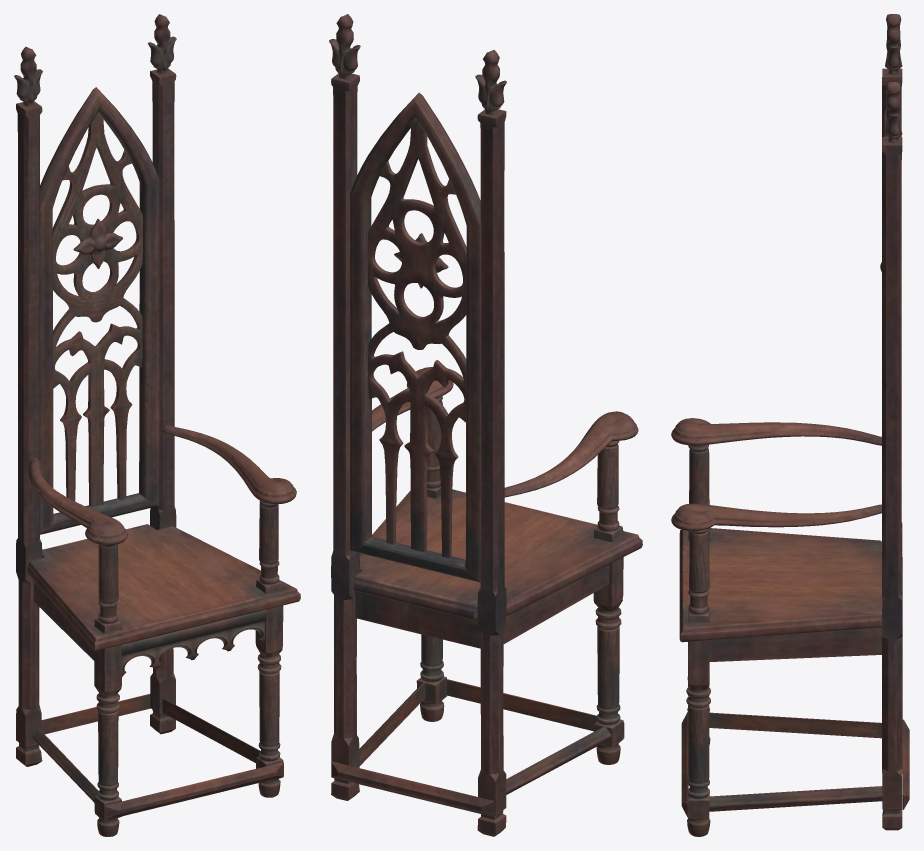
The model's file is chair-mobile.glb.
3 renders of one model, left to right at view 1: azimuth 30°, elevation 25°; view 2: azimuth 150°, elevation 25°; view 3: azimuth 270°, elevation 25°, orthographic. The views are drawn at different scales.
Parts seen in each view (by area): view 1: WoodenChair_01; view 2: WoodenChair_01; view 3: WoodenChair_01.
Boxes of the visible parts, x1,y1,x2,y2 form: WoodenChair_01: (14,14,300,836); WoodenChair_01: (329,14,642,836); WoodenChair_01: (671,14,909,836).
Bounding box in the file's own units: 0.6881 × 2.27 × 0.6584.
Materials: 1 (1 with a texture image).
